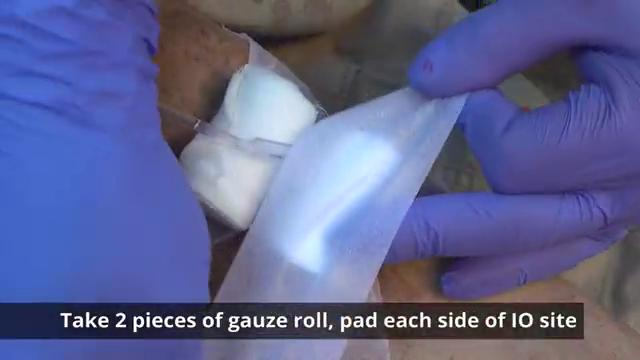gauze: (179, 60, 320, 231)
